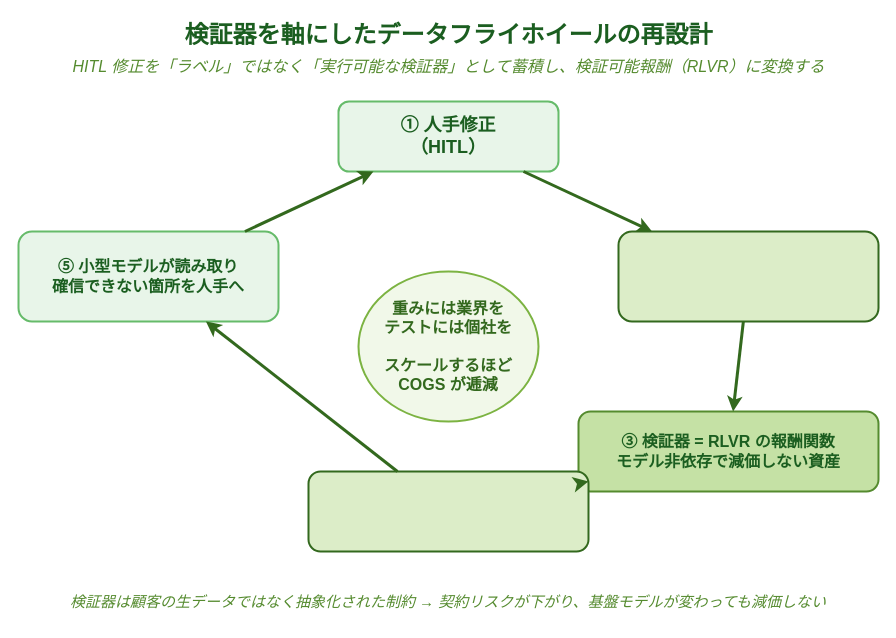
This 896x638 diagram has some shape labels left out. Each missing label, with the centre of its shape:
② 修正を実行可能な検証器へ変換 （合計整合・チェックデジット・マスタ照合）: (748,276)
④ 大型VLM教師 → 小型自社モデルへ on-policy distillation で焼き込む: (448,511)
